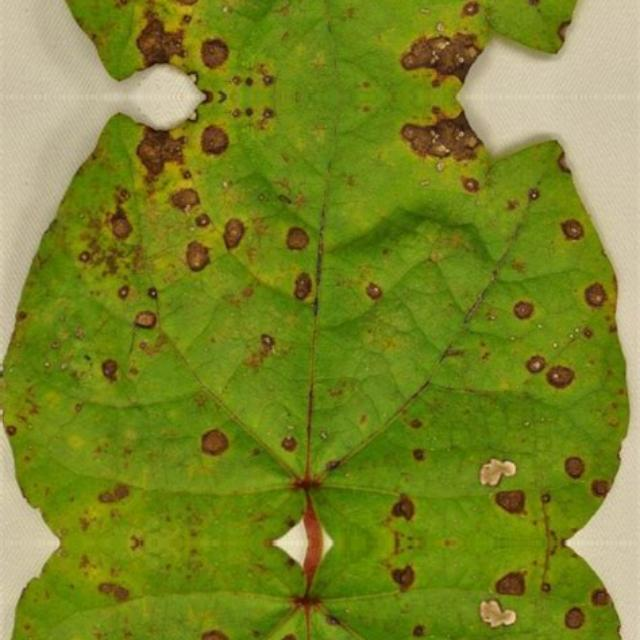Lettuce - Anthracnose: (5, 103, 640, 542), (5, 542, 640, 640), (5, 0, 640, 88)
